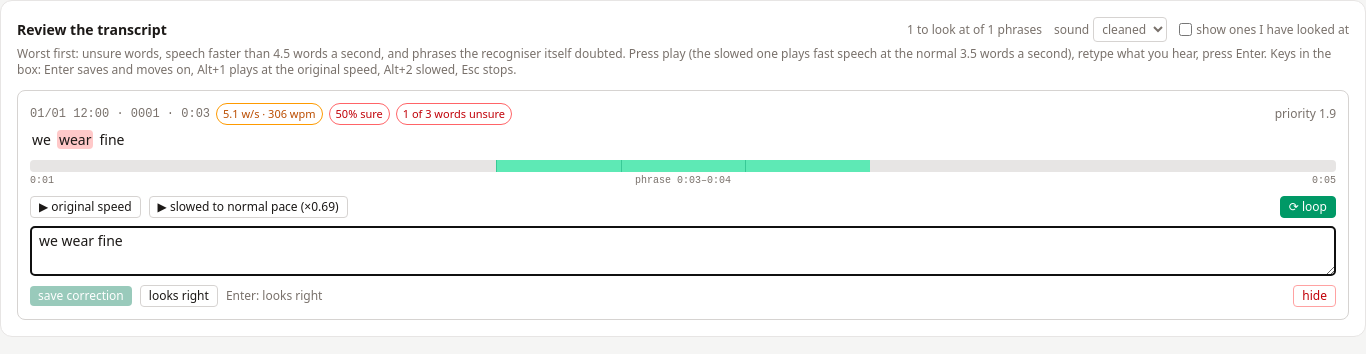
ReviewPage › lets you undo your typing, and only offers to save once the text changed
This screenshot has width=1366, height=354.
Expected: the button "save correction" is disabled, [30,286,132,306]
Step 1. Type " x" into the text box named "what was said" → (683, 251), box [30,226,1336,276]
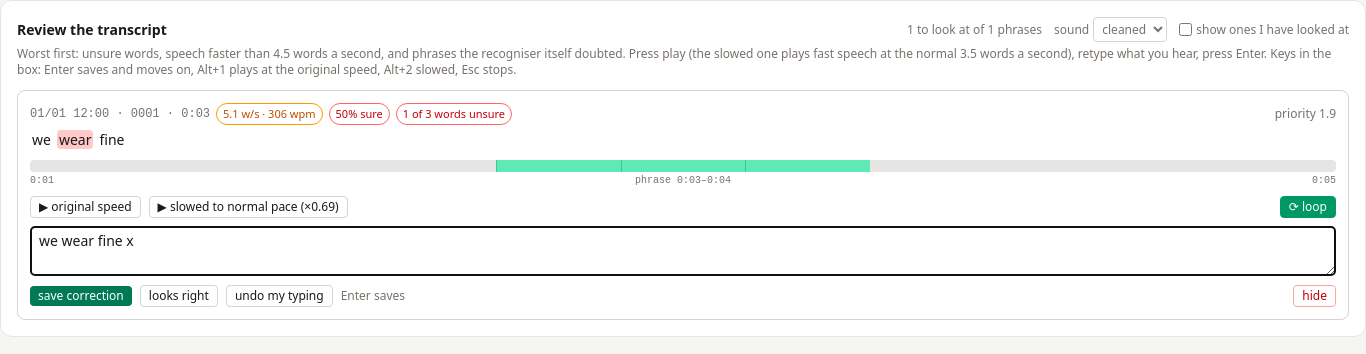
Result: the button "save correction" is enabled at [30,286,132,306]
Result: the text "Enter saves" is shown at [341,288,405,304]
Step 2. Click the button "undo my typing" → (279, 296), box [226,285,333,307]
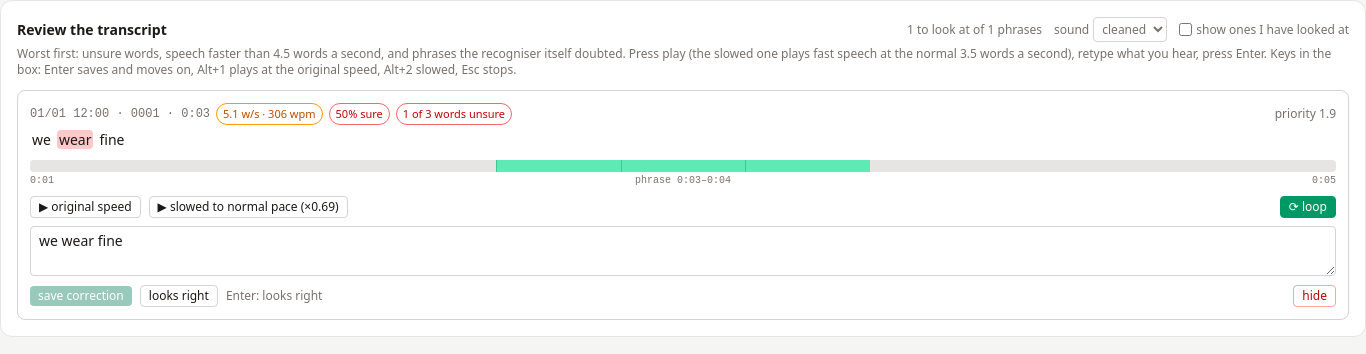
Result: the text box named "what was said" holds "we wear fine" at [30,226,1336,276]
